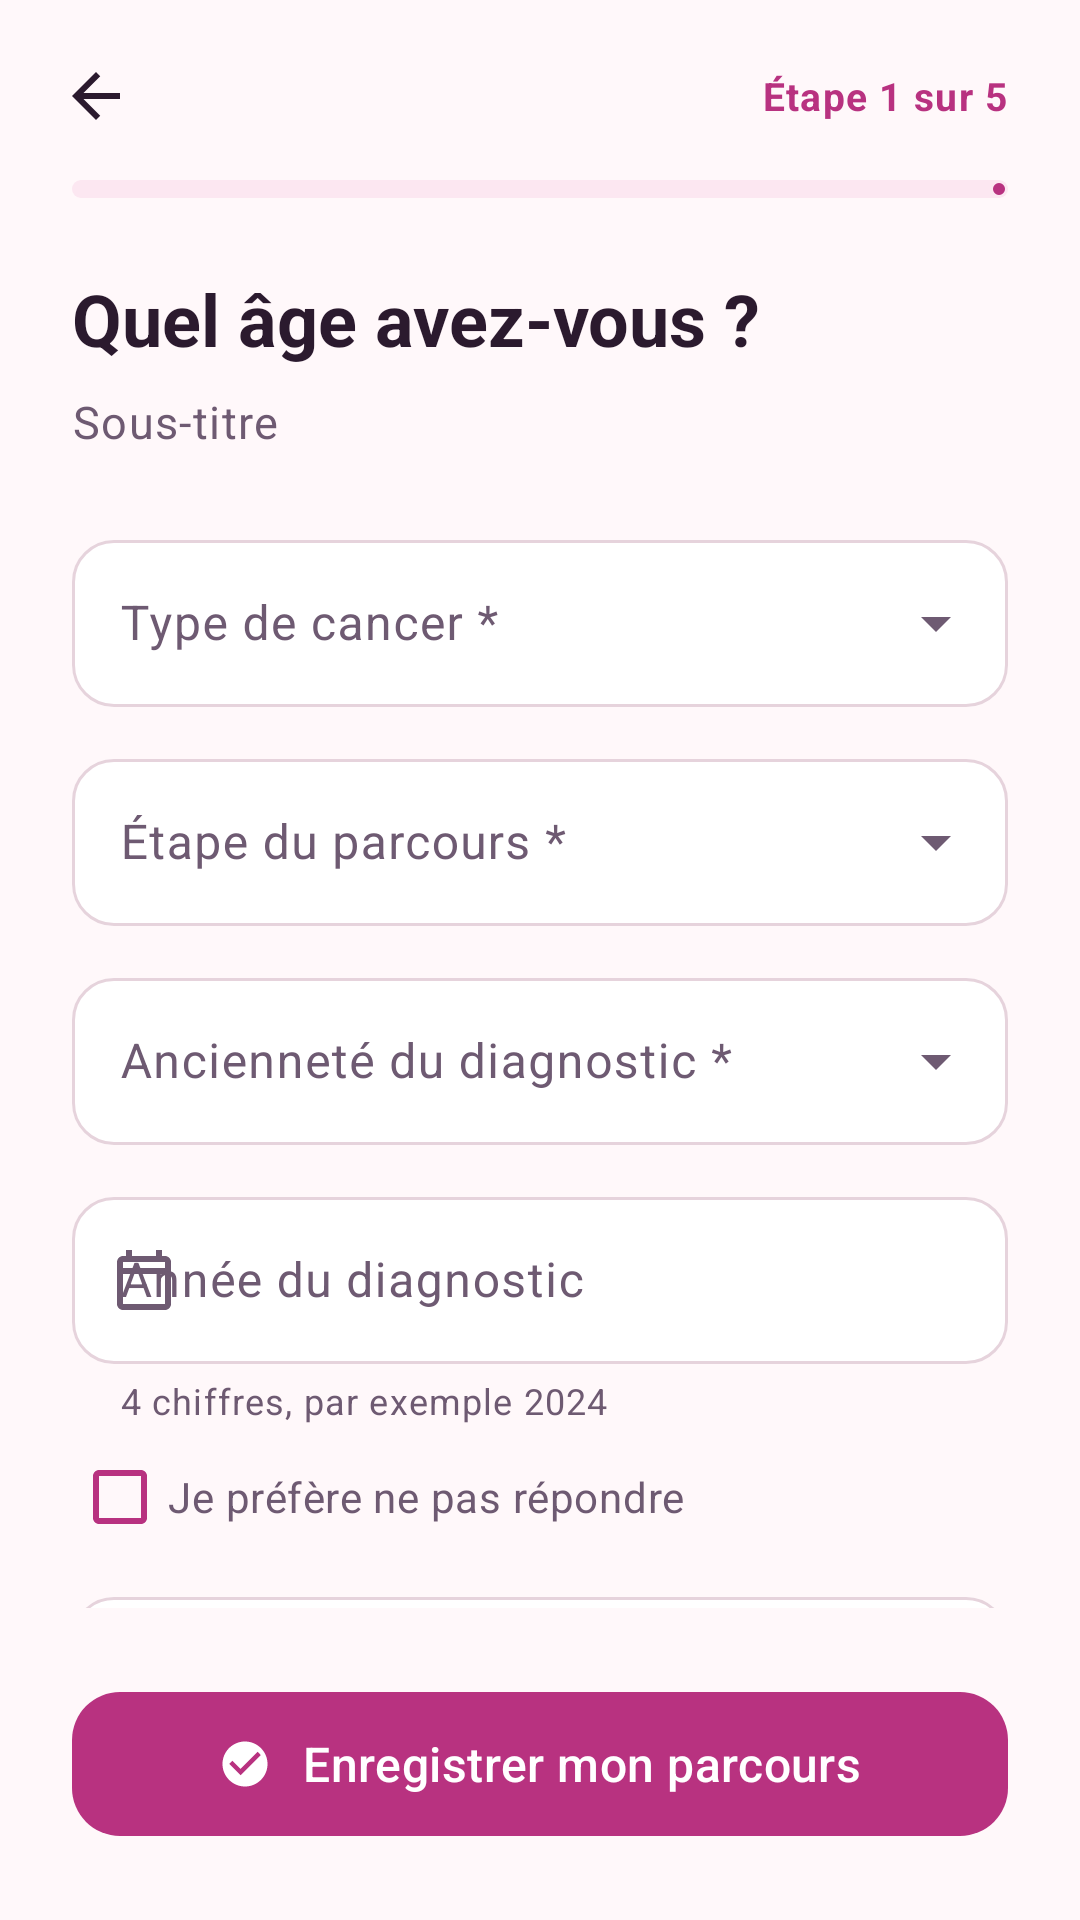

Icon bounding boxes for this 1080×1920 phone screenshot, format BBox(x1, y1, x2, y2):
Retour: BBox(72, 72, 120, 120)
